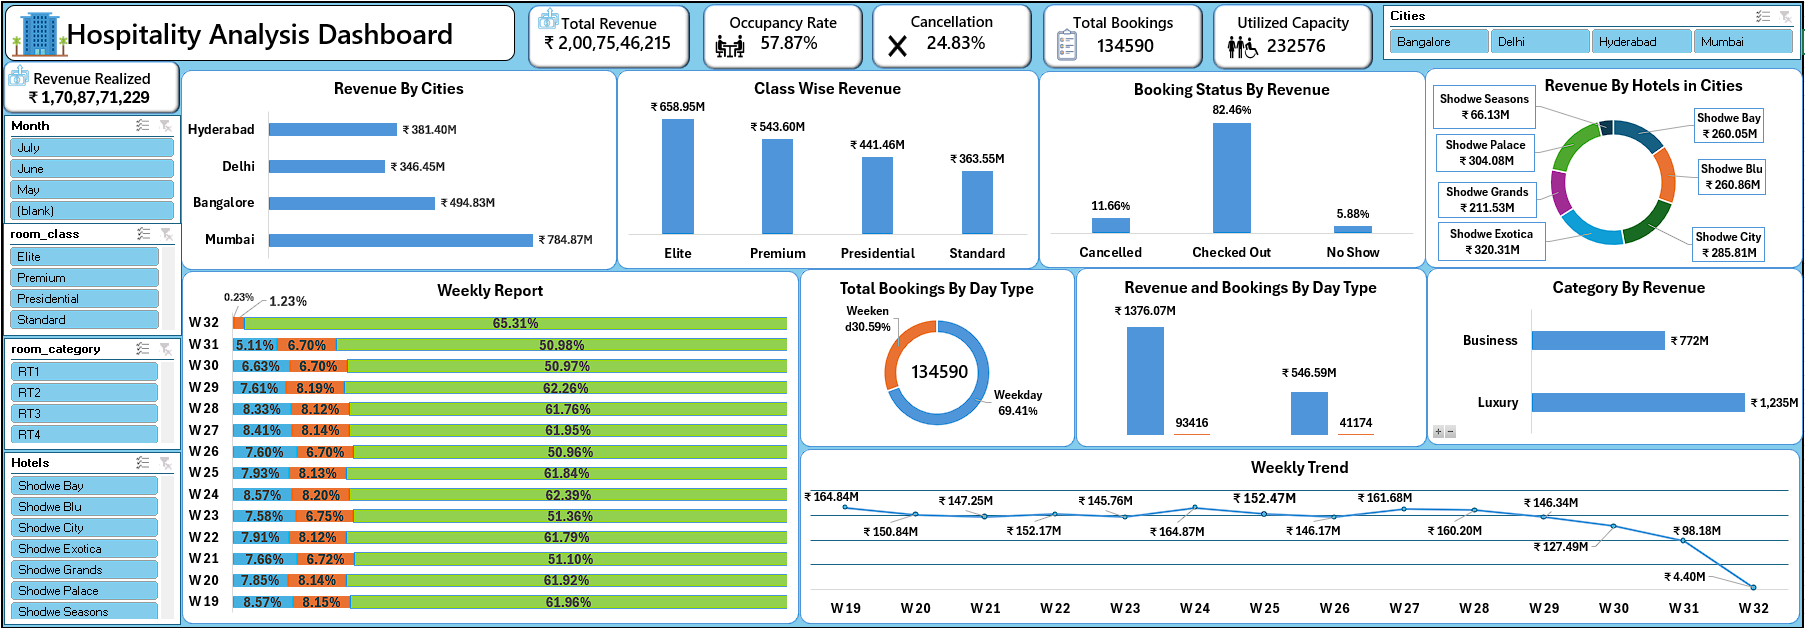

The page's visual inventory and layout, read from the dashboard file:
{"tool":"tableau","page":{"name":"Dashboard 1","canvas":[1660,800],"ordinal":0},"visuals":[{"type":"image","param":"Image/Green - Blue Background.png","box":[0,0,1285,791]},{"type":"worksheet","title":"Sheet 3","mark":"Automatic","box":[0,0,1286,791]},{"type":"image","param":"Image/Taj_Hotels_logo.svg","box":[11,1,54,42]},{"type":"filter","title":"Sheet 2","param":"[federated.0jhrag60bgtqcr1gfnqsa13xlo9b].[none:category:nk]","box":[592,6,161,32]},{"type":"filter","title":"Sheet 2","param":"[federated.0jhrag60bgtqcr1gfnqsa13xlo9b].[mn:mmm_yy:ok]","box":[437,7,152,32]},{"type":"filter","title":"Sheet 2","param":"[federated.0jhrag60bgtqcr1gfnqsa13xlo9b].[none:room_class:nk]","box":[756,7,159,32]},{"type":"filter","title":"Sheet 2","param":"[federated.0jhrag60bgtqcr1gfnqsa13xlo9b].[none:property_name:nk]","box":[918,7,172,32]},{"type":"filter","title":"Sheet 2","param":"[federated.0jhrag60bgtqcr1gfnqsa13xlo9b].[none:city:nk]","box":[1093,7,164,31]},{"type":"dashboard-object","box":[1239,46,39,33]},{"type":"worksheet","title":"KPI\"S Metrics","mark":"Automatic","box":[187,54,953,65]},{"type":"filter","title":"Sheet 2","param":"[federated.0jhrag60bgtqcr1gfnqsa13xlo9b].[none:room_category:nk]","box":[44,57,122,54]},{"type":"worksheet","title":"Sheet 2","mark":"Automatic","rows":["city"],"cols":["revenue_generated"],"box":[22,142,360,202]},{"type":"worksheet","title":"Sheet 4","mark":"Automatic","rows":["revenue_generated"],"cols":["room_class"],"box":[415,143,391,201]},{"type":"worksheet","title":"Sheet 5","mark":"Automatic","rows":["revenue_realized"],"cols":["booking_status"],"box":[833,145,430,199]},{"type":"worksheet","title":"Sheet 8","mark":"Pie","rows":["Calculation_680888027235426308","Calculation_680888027235426308"],"box":[918,368,342,234]},{"type":"worksheet","title":"Sheet 6","mark":"Automatic","cols":["day_type"],"box":[22,369,252,227]},{"type":"worksheet","title":"Sheet 10","mark":"Automatic","rows":["category"],"cols":["revenue_generated"],"box":[305,370,581,228]},{"type":"worksheet","title":"Sheet 7","mark":"Line","rows":["revenue_generated"],"cols":["week_no"],"box":[24,632,1239,143]}]}

Visuals, with their boxes on the page's 1660x800 design canvas (x1, y1, x2, y2). These are canvas units, not pixel positions in the 1806x629 screenshot, which may show the page scaled, cropped or inside an application window:
image: 0/0/1285/791
"Sheet 3" worksheet: 0/0/1286/791
image: 11/1/65/43
"Sheet 2" filter: 592/6/753/38
"Sheet 2" filter: 437/7/589/39
"Sheet 2" filter: 756/7/915/39
"Sheet 2" filter: 918/7/1090/39
"Sheet 2" filter: 1093/7/1257/38
dashboard-object: 1239/46/1278/79
"KPI"S Metrics" worksheet: 187/54/1140/119
"Sheet 2" filter: 44/57/166/111
"Sheet 2" worksheet: 22/142/382/344
"Sheet 4" worksheet: 415/143/806/344
"Sheet 5" worksheet: 833/145/1263/344
"Sheet 8" worksheet (Pie marks): 918/368/1260/602
"Sheet 6" worksheet: 22/369/274/596
"Sheet 10" worksheet: 305/370/886/598
"Sheet 7" worksheet (Line marks): 24/632/1263/775
